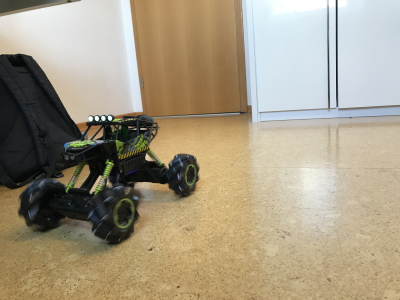remote control car: (15, 110, 201, 245)
